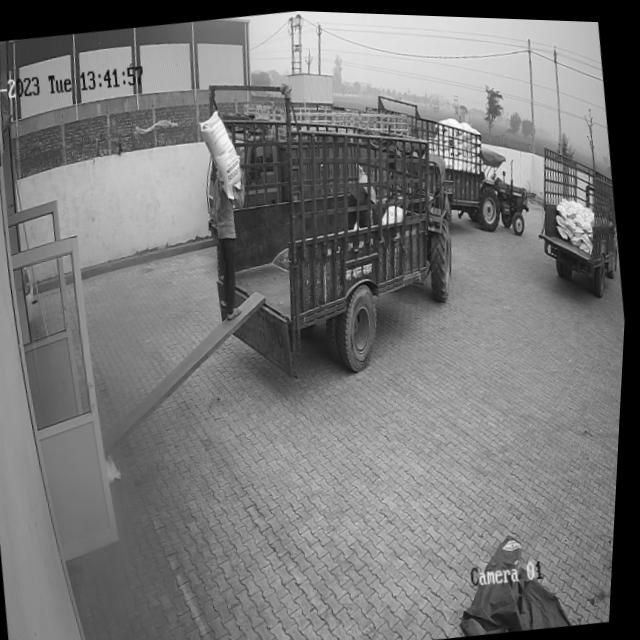sack: (196, 105, 248, 201)
